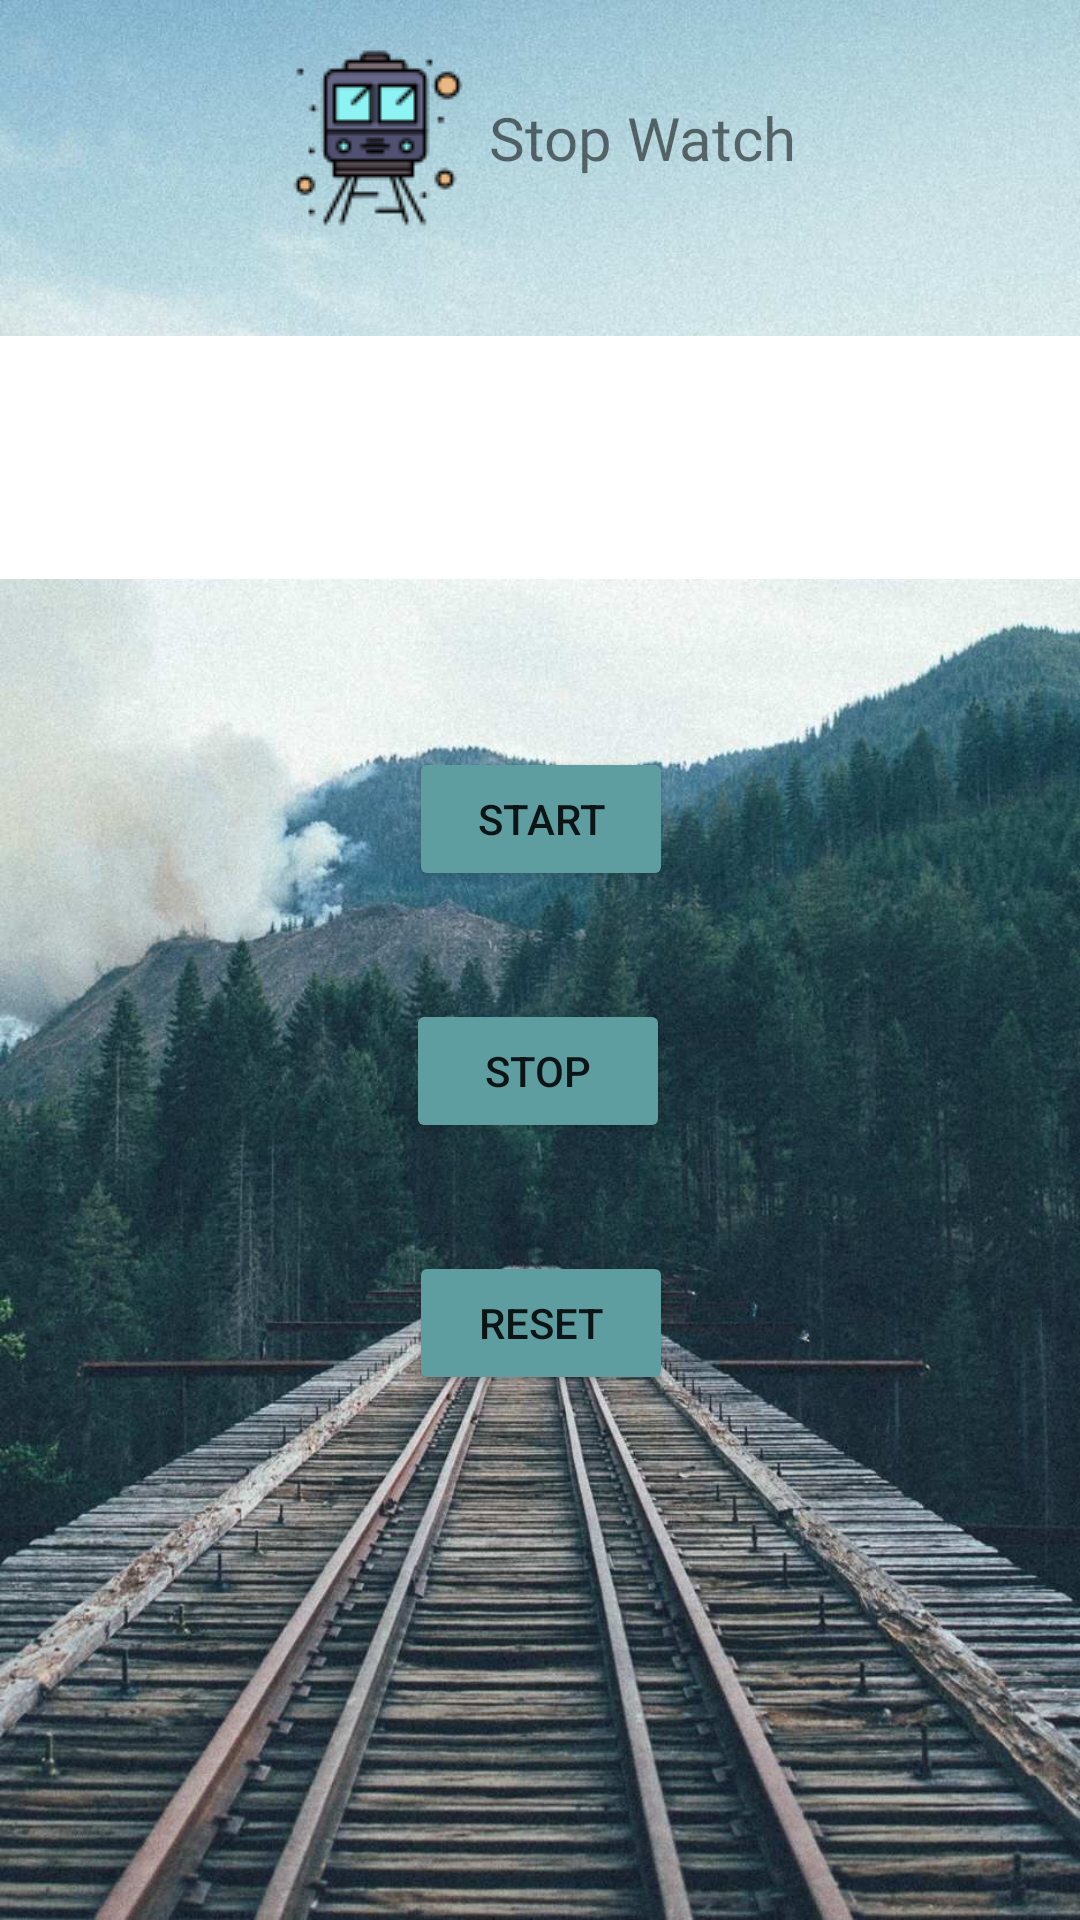

Icon click points for this 1080*1920 phone screenshot, format (x=x, y=y):
toast train: (x=378, y=138)
